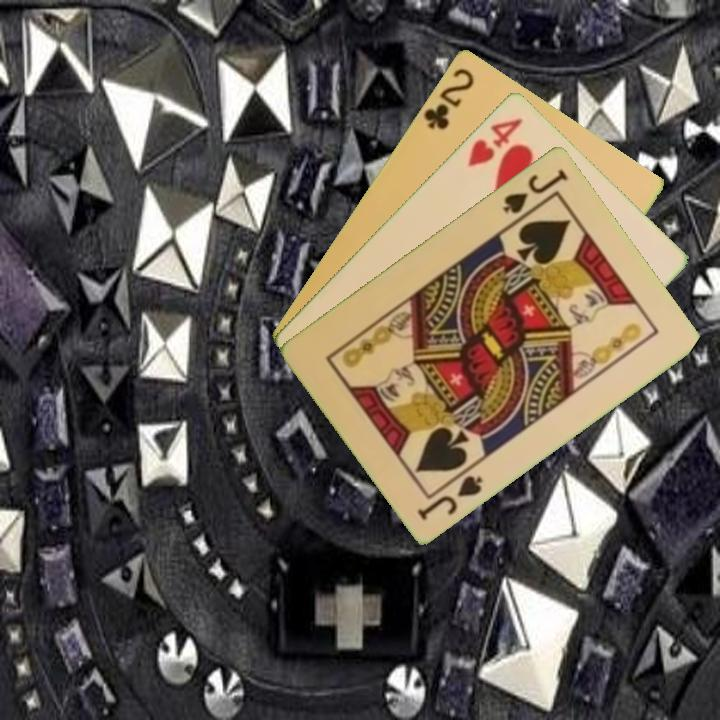2c: (419, 64, 477, 132)
4h: (464, 114, 526, 169)
Js: (413, 463, 486, 523), (499, 164, 571, 216)
